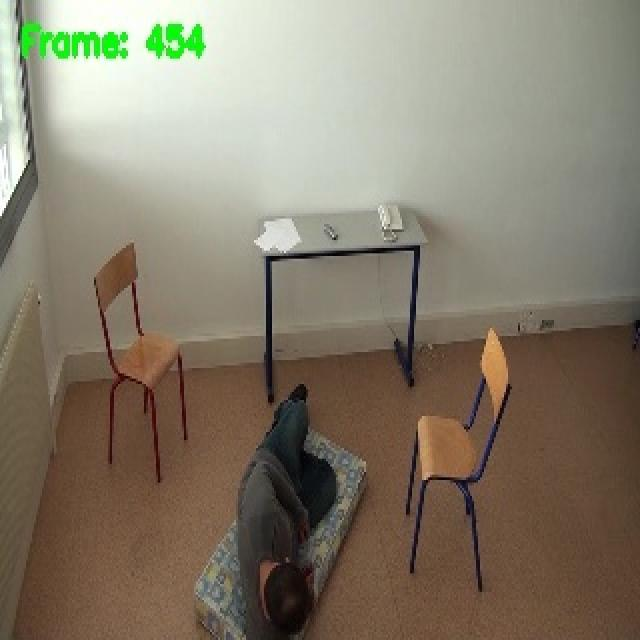fall: (238, 380, 340, 640)
